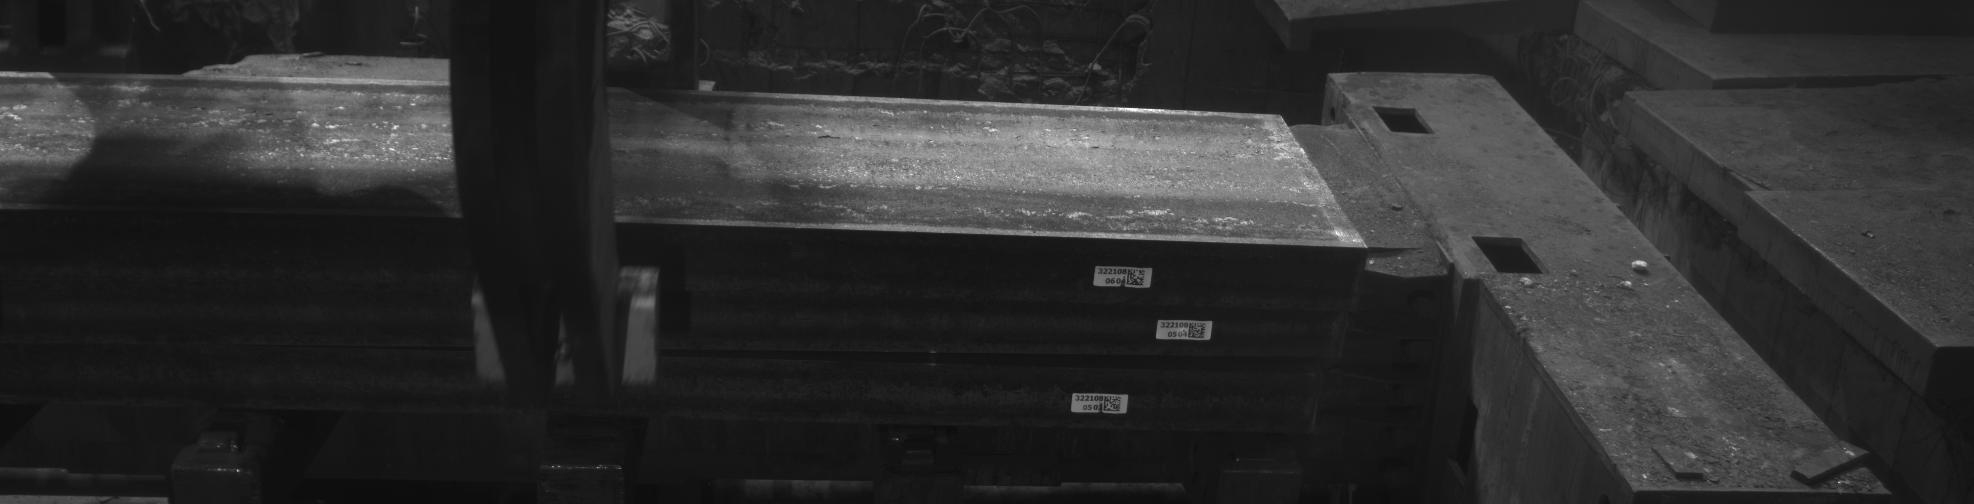data matrix: (1127, 268, 1146, 287), (1104, 397, 1123, 415), (1188, 323, 1207, 340)
